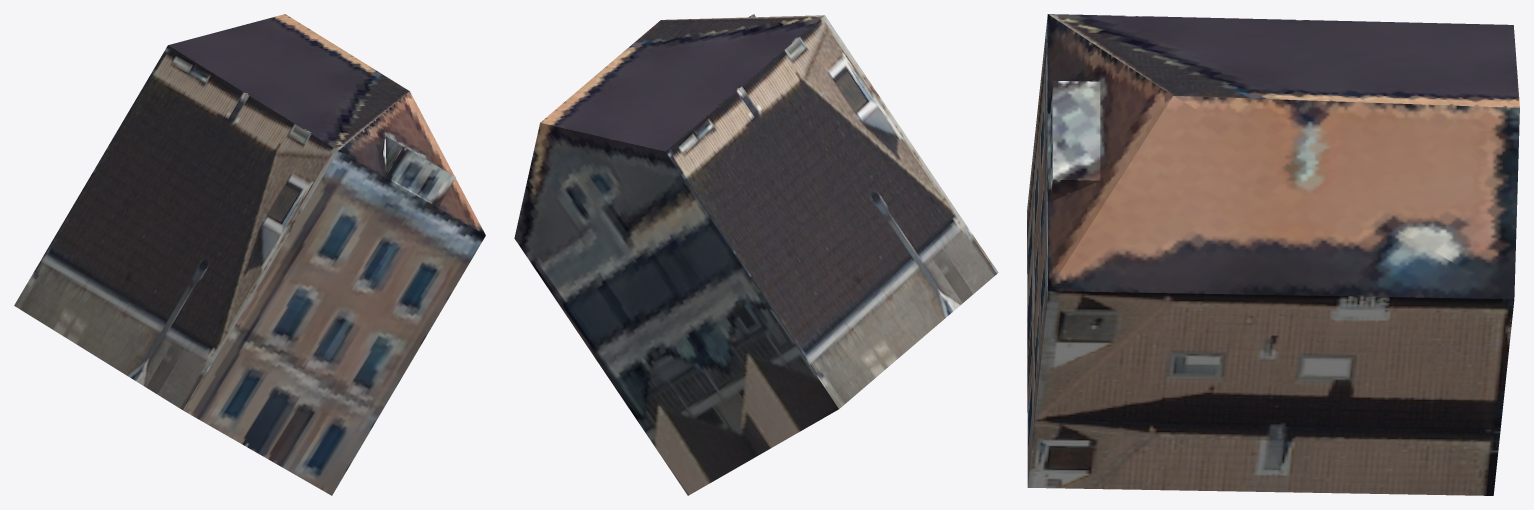
3 views of the same model, side by side, from view 1: azimuth 30°, elevation 25°; view 2: azimuth 150°, elevation 25°; view 3: azimuth 270°, elevation 25° (orthographic). The views are drawn at different scales.
Parts seen in each view (by area): view 1: BAG_0599100000675868 (×4); view 2: BAG_0599100000675868 (×3); view 3: BAG_0599100000675868 (×5).
Boxes of the visible parts, x1,y1,x2,y2 form: BAG_0599100000675868 (×4): [14, 14, 485, 495]; BAG_0599100000675868 (×3): [514, 15, 998, 495]; BAG_0599100000675868 (×5): [1027, 14, 1519, 495].
Size of the model in its own units: 13.32 by 13.94 by 12.51.
5 materials, 5 textured.
